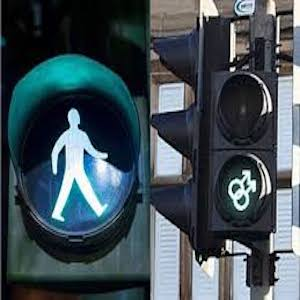green: (43, 105, 127, 224), (224, 165, 261, 211)
